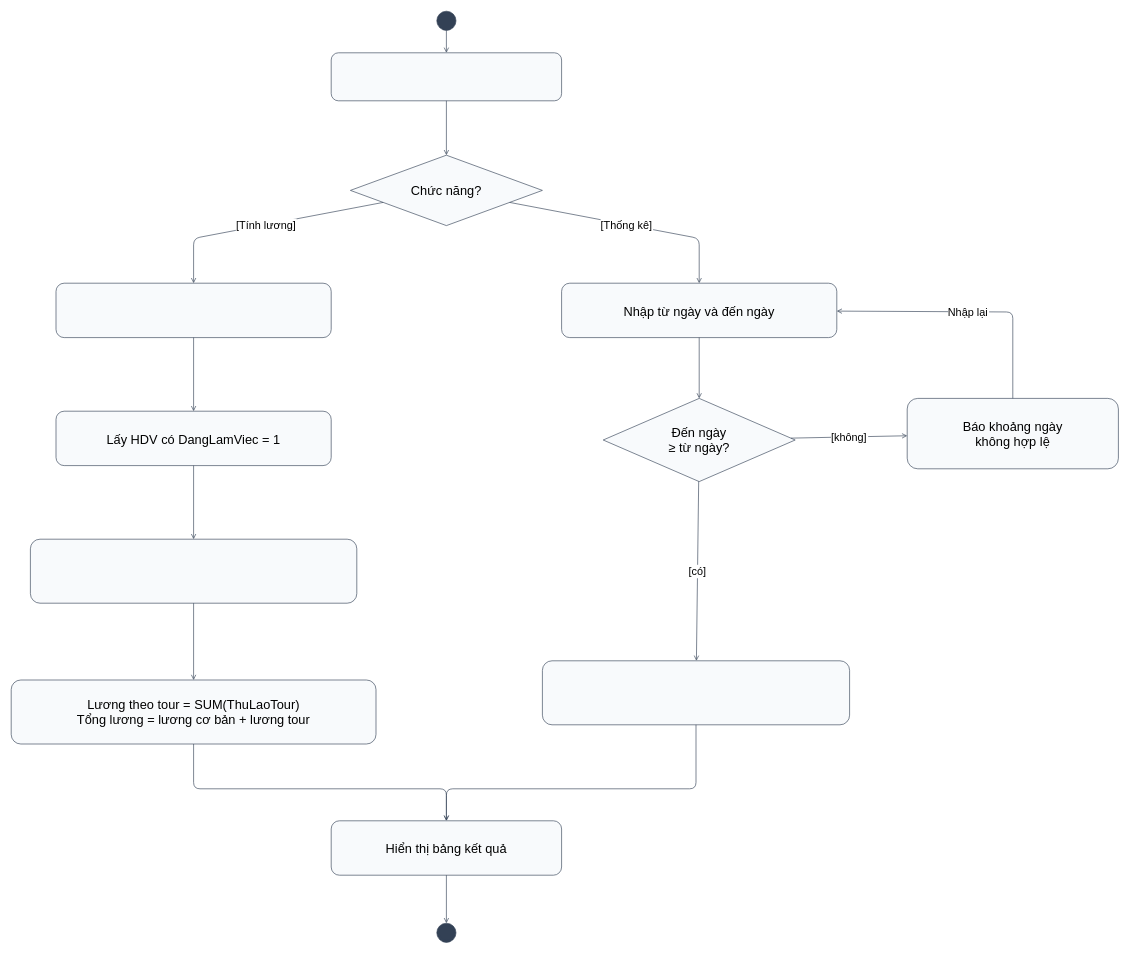
Some shapes in this 1130 by 954 pixel diagram are drawn without their labels. Here are the shapes that lost their labels. From the top down, the centre of each, then its label:
the point at 446,76: Kế toán chọn chức năng
the point at 193,310: Chọn tháng và năm
the point at 193,571: Tổng hợp phân công có ngày kết thúc thuộc tháng và năm chọn
the point at 696,692: TongHop(tu, den) Tổng hợp 5 chỉ số trong khoảng ngày
